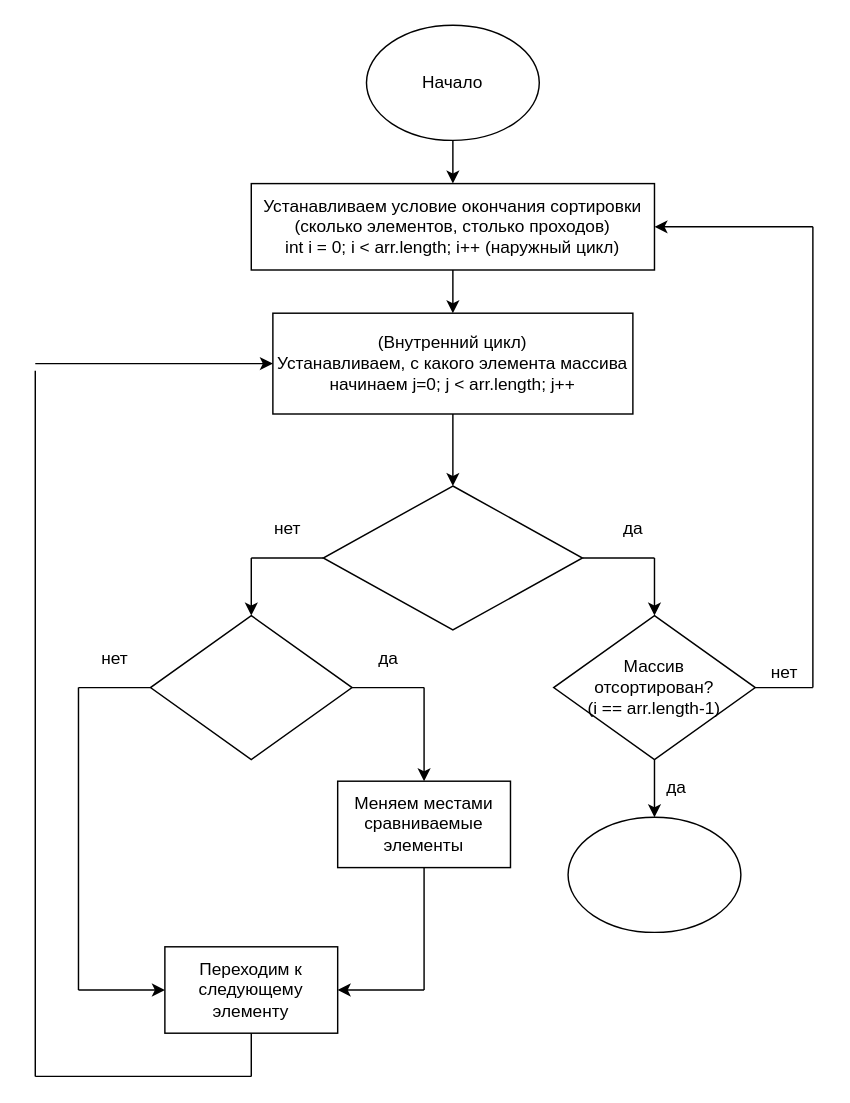
Image size: 850x1103. Some labels were removed from this diagram. The shapes that lost their labels are listed below. From the top down, each one's centre as x and y in pixels, then its label:
point 452,557: Закончили сравнение? j == arr.length - 1
point 250,687: Следующий меньше предыдущего?
point 654,874: Конец
